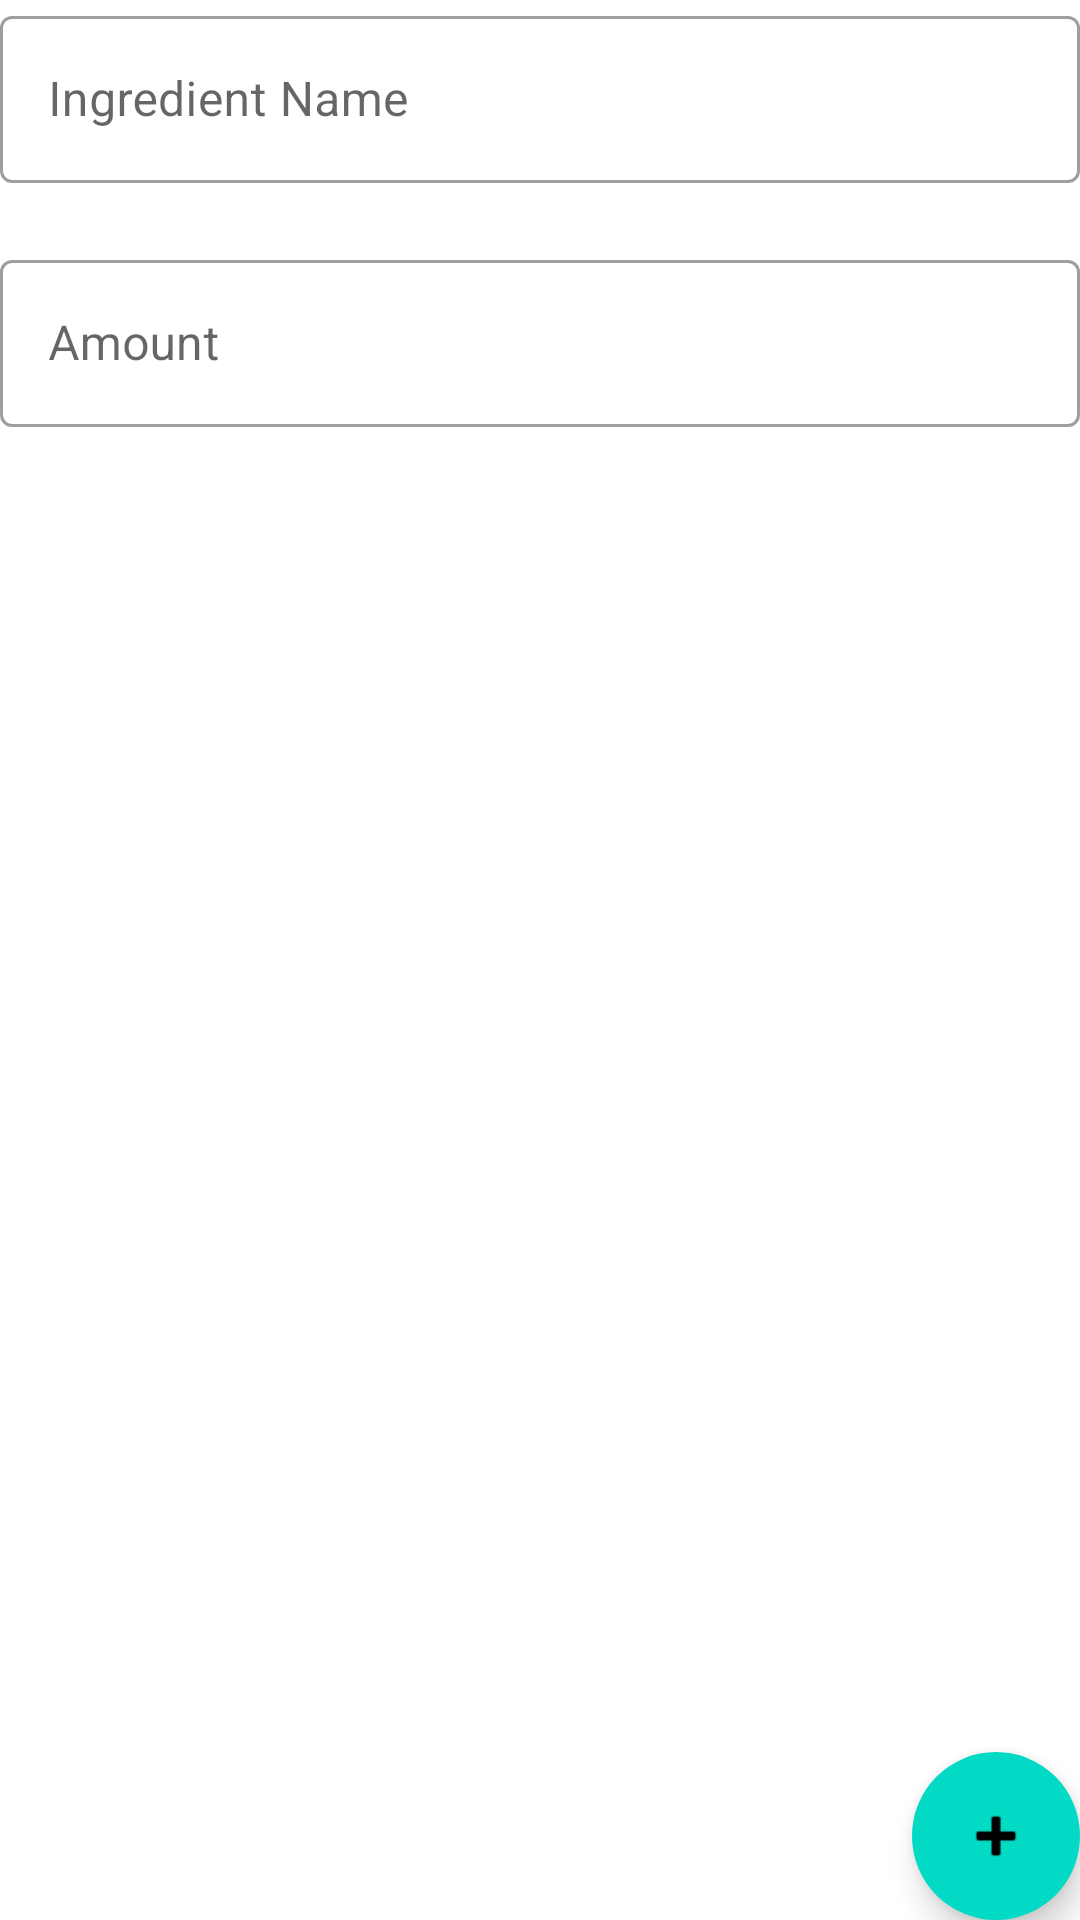

Locate icon controls on the screen. Image size 1080 x 1920, boxes as (x1, y1, x2, y2).
Add Ingredient: (912, 1752, 1080, 1920)
